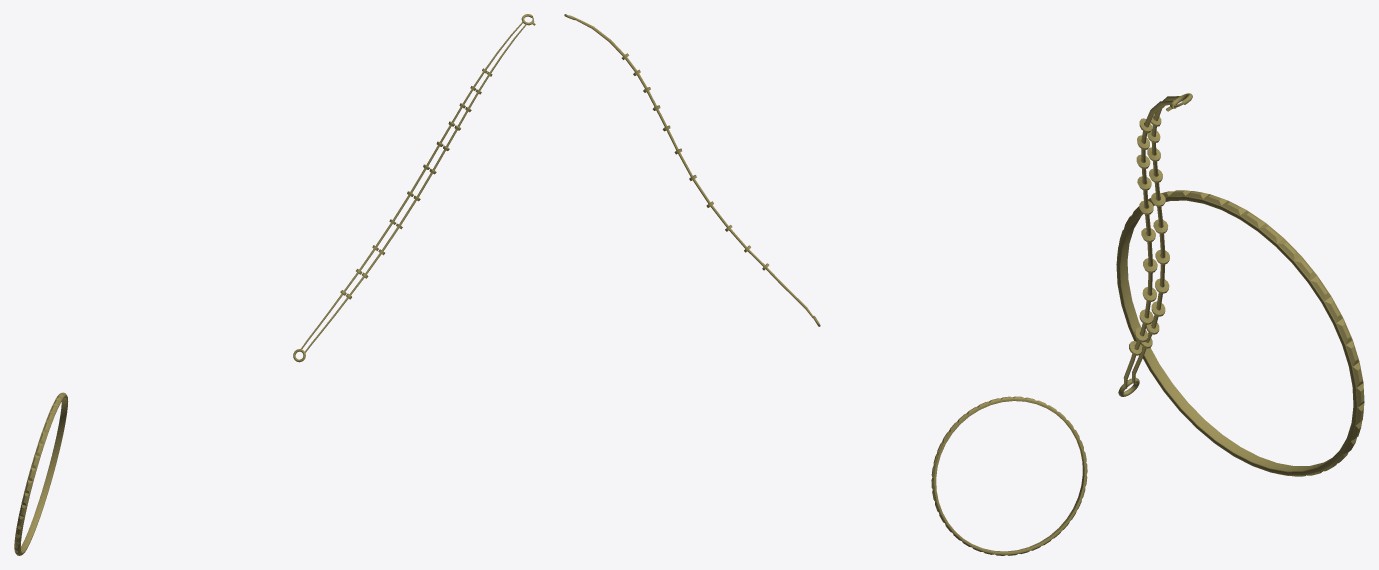
The model's file is jewel-3.glb.
3 views of the same model, side by side, from view 1: azimuth 30°, elevation 25°; view 2: azimuth 150°, elevation 25°; view 3: azimuth 270°, elevation 25° (orthographic). The views are drawn at different scales.
Parts seen in each view (by area): view 1: jewelry_store_034, Object004; view 2: Object004, jewelry_store_034; view 3: Object004, jewelry_store_034.
Boxes of the visible parts, x1,y1,x2,y2 form: jewelry_store_034: (293, 14, 535, 362); Object004: (14, 392, 68, 555); Object004: (931, 396, 1087, 555); jewelry_store_034: (564, 14, 820, 326); Object004: (1116, 190, 1364, 476); jewelry_store_034: (1118, 93, 1192, 396).
Bounding box in the file's own units: 0.2309 × 0.1794 × 0.0488.
